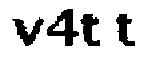4: (45, 7, 80, 47)
t: (114, 12, 138, 51), (81, 11, 103, 51)
v: (8, 14, 43, 50)
